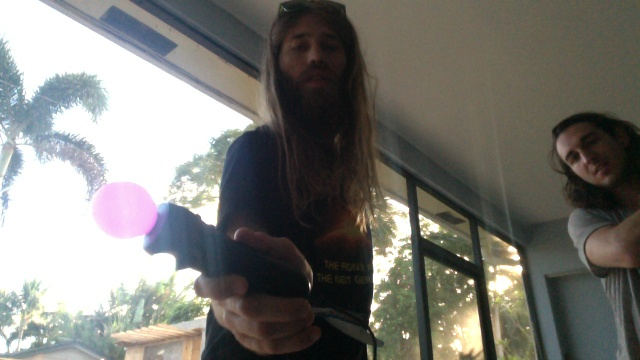wand: (93, 180, 158, 239)
